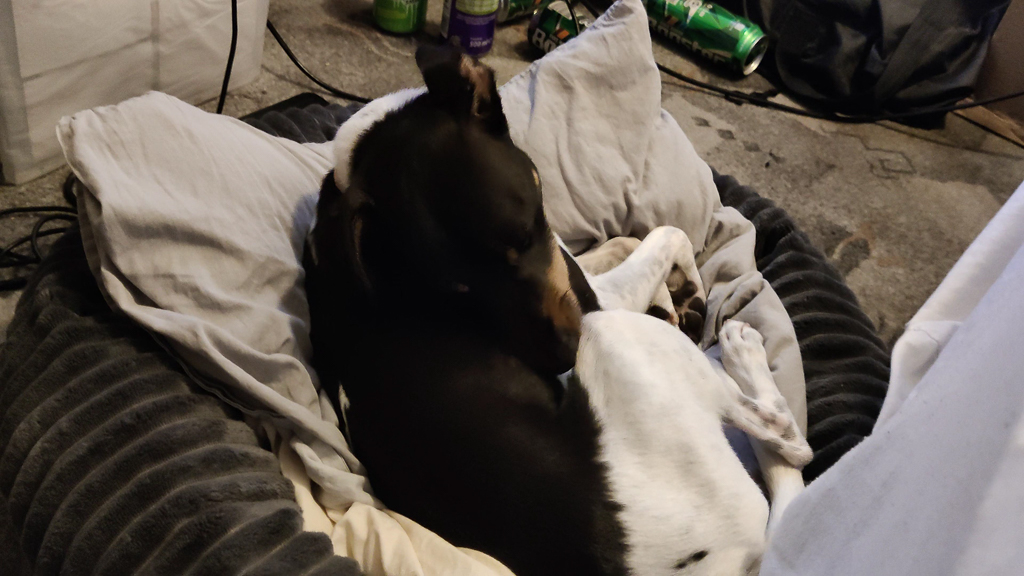Dog: (277, 7, 835, 576)
